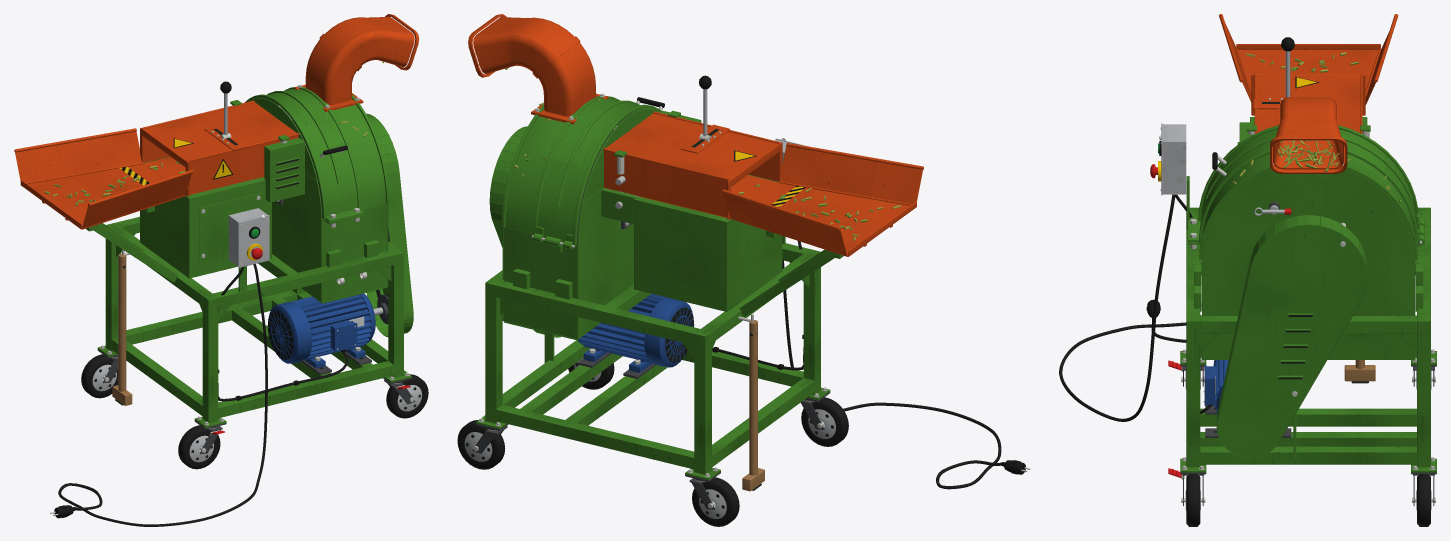
The model's file is chaff-cutter-CdFth1cN.glb.
3 renders of one model, left to right at view 1: azimuth 30°, elevation 25°; view 2: azimuth 150°, elevation 25°; view 3: azimuth 270°, elevation 25°, orthographic. The views are drawn at different scales.
Parts seen in each view (by area): view 1: CC_frame, CC_tray, CC_chute, CC_motor, CC_cover, CC_belt_guard, CC_cable, CC_switchbox, CC_wheel_1, CC_push_stick, CC_wheel_2, CC_wheel_3; view 2: CC_frame, CC_tray, CC_chute, CC_cover, CC_motor, CC_wheel_3, CC_wheel_1, CC_wheel_4, CC_cable, CC_push_stick, CC_belt_guard; view 3: CC_frame, CC_belt_guard, CC_tray, CC_chute, CC_cover, CC_cable, CC_switchbox, CC_wheel_2, CC_wheel_4, CC_motor, VAR_chute_chaff, CC_push_stick (+1 smaller).
Boxes of the visible parts, x1=… form: CC_frame: x1=86, y1=84, x2=411, y2=427; CC_tray: x1=14, y1=100, x2=299, y2=229; CC_chute: x1=294, y1=14, x2=419, y2=111; CC_motor: x1=267, y1=293, x2=383, y2=368; CC_cover: x1=245, y1=86, x2=364, y2=222; CC_belt_guard: x1=366, y1=113, x2=413, y2=337; CC_cable: x1=58, y1=264, x2=348, y2=526; CC_switchbox: x1=228, y1=208, x2=269, y2=267; CC_wheel_1: x1=178, y1=420, x2=226, y2=469; CC_push_stick: x1=112, y1=253, x2=132, y2=405; CC_wheel_2: x1=383, y1=374, x2=428, y2=418; CC_wheel_3: x1=81, y1=349, x2=118, y2=398; CC_frame: x1=476, y1=93, x2=843, y2=480; CC_tray: x1=603, y1=111, x2=923, y2=256; CC_chute: x1=468, y1=14, x2=608, y2=124; CC_cover: x1=533, y1=96, x2=664, y2=249; CC_motor: x1=577, y1=294, x2=694, y2=372; CC_wheel_3: x1=685, y1=472, x2=739, y2=526; CC_wheel_1: x1=800, y1=392, x2=848, y2=446; CC_wheel_4: x1=457, y1=420, x2=508, y2=469; CC_cable: x1=712, y1=241, x2=1001, y2=488; CC_push_stick: x1=742, y1=320, x2=764, y2=491; CC_belt_guard: x1=489, y1=126, x2=561, y2=337; CC_frame: x1=1180, y1=117, x2=1436, y2=472; CC_belt_guard: x1=1216, y1=215, x2=1367, y2=457; CC_tray: x1=1219, y1=14, x2=1398, y2=133; CC_chute: x1=1270, y1=97, x2=1347, y2=173; CC_cover: x1=1187, y1=125, x2=1424, y2=245; CC_cable: x1=1059, y1=194, x2=1212, y2=421; CC_switchbox: x1=1158, y1=123, x2=1186, y2=195; CC_wheel_2: x1=1180, y1=472, x2=1206, y2=526; CC_wheel_4: x1=1411, y1=472, x2=1436, y2=526; CC_motor: x1=1203, y1=360, x2=1228, y2=414; VAR_chute_chaff: x1=1278, y1=140, x2=1339, y2=168; CC_push_stick: x1=1344, y1=360, x2=1375, y2=383.
Size of the model in its own units: 1.67 by 1.36 by 1.1.
27 materials, 8 textured.
